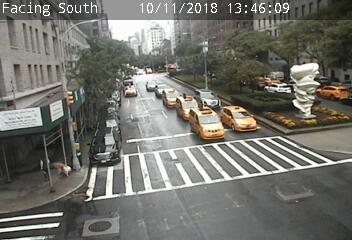car: (189, 107, 224, 141), (90, 127, 120, 166), (221, 106, 257, 132), (176, 95, 201, 121), (195, 89, 220, 110), (316, 85, 348, 99), (163, 88, 183, 109), (264, 83, 291, 96), (155, 83, 170, 98), (123, 85, 137, 98), (145, 80, 157, 91)
